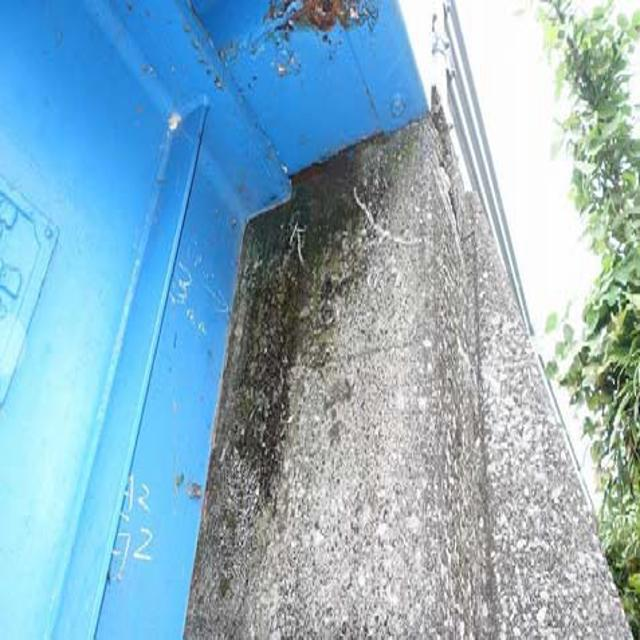corrosion: (271, 4, 393, 52)
leakage: (227, 146, 387, 493)
